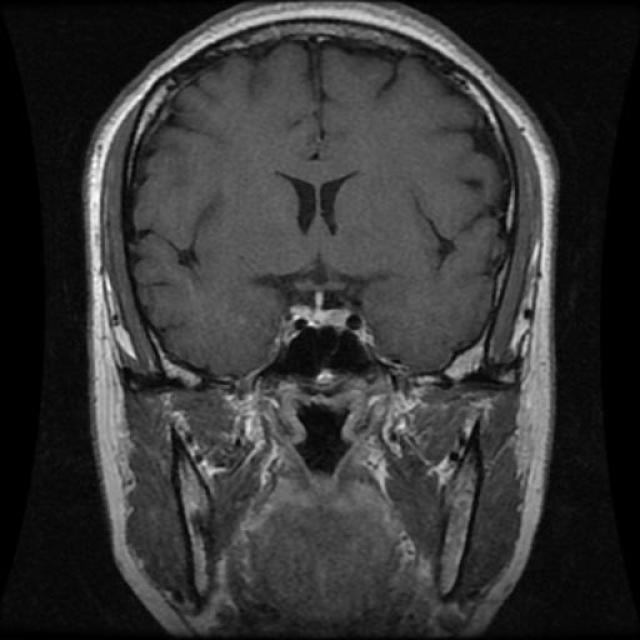pituitary: (267, 288, 385, 408)
